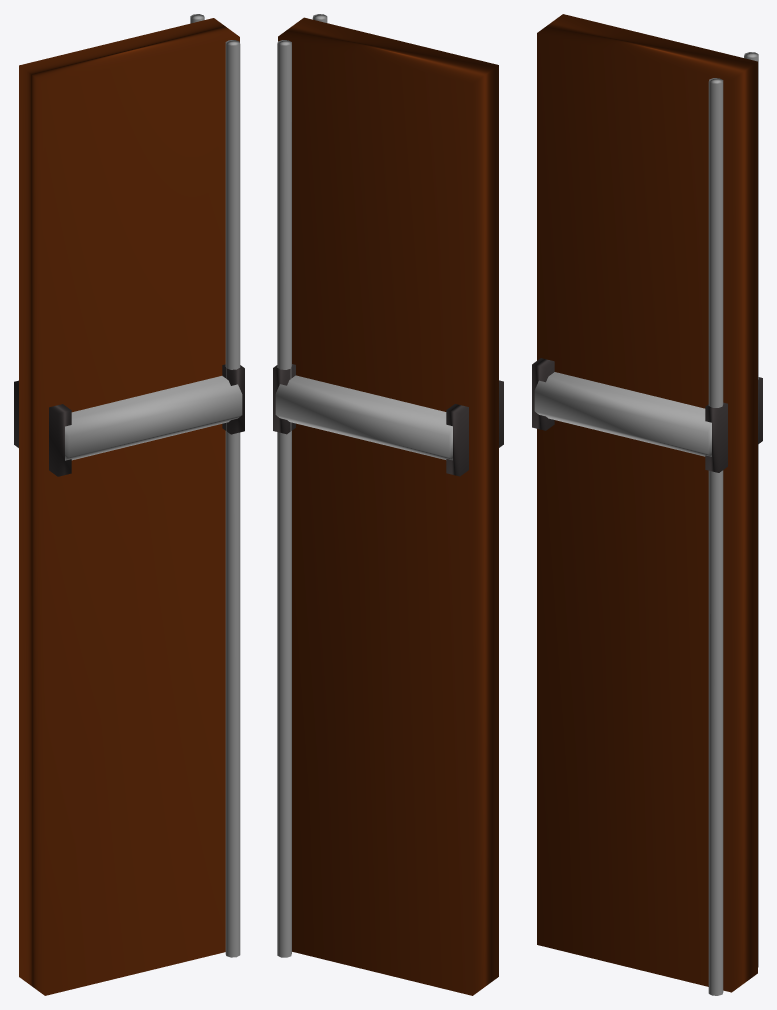
The model's file is Mesh_Door_Exit.fbx.
3 views of the same model, side by side, from view 1: azimuth 30°, elevation 25°; view 2: azimuth 150°, elevation 25°; view 3: azimuth 330°, elevation 25° (orthographic).
Visible parts, largest first — view 1: pCylinder26; view 2: pCylinder26; view 3: pCylinder26.
Part boxes in pixels (x1,y1,x2,y2): pCylinder26: [14, 14, 244, 995]; pCylinder26: [273, 14, 503, 995]; pCylinder26: [532, 14, 762, 995].
Size of the model in its own units: 10.96 by 49 by 5.11.
